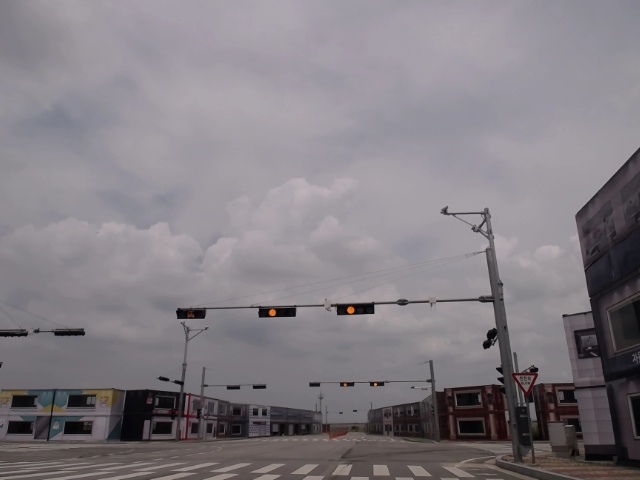orange_4: (335, 302, 377, 317), (256, 306, 299, 318), (338, 381, 356, 388), (369, 381, 386, 387)
